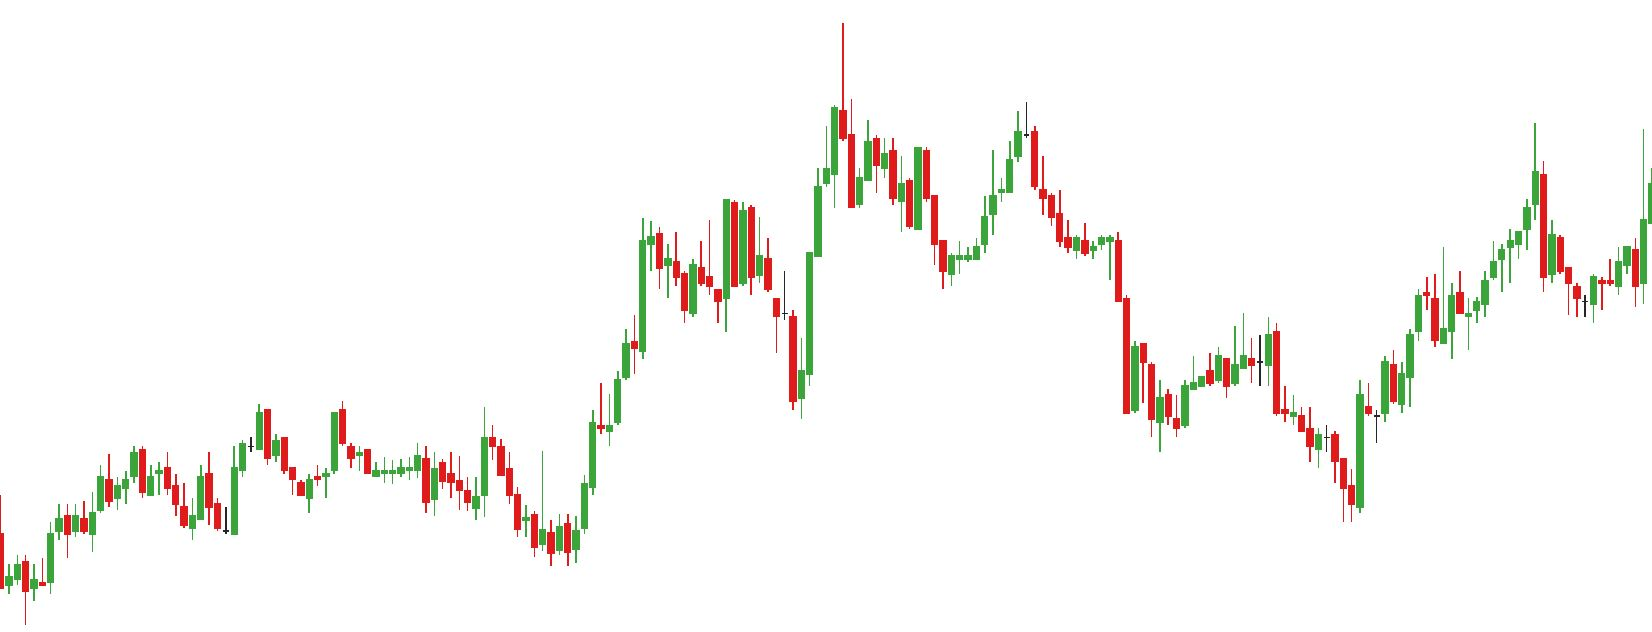buy: (721, 224, 817, 424)
sell: (912, 96, 1039, 246)
